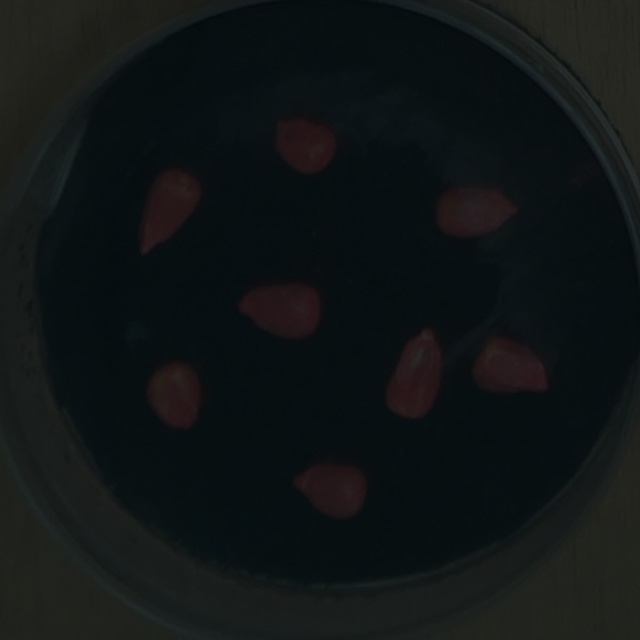Zea mays: (373, 318, 450, 429), (128, 159, 210, 263), (228, 274, 329, 348), (463, 328, 558, 401), (284, 451, 374, 527), (428, 177, 526, 245), (138, 350, 207, 438), (267, 110, 345, 183)
